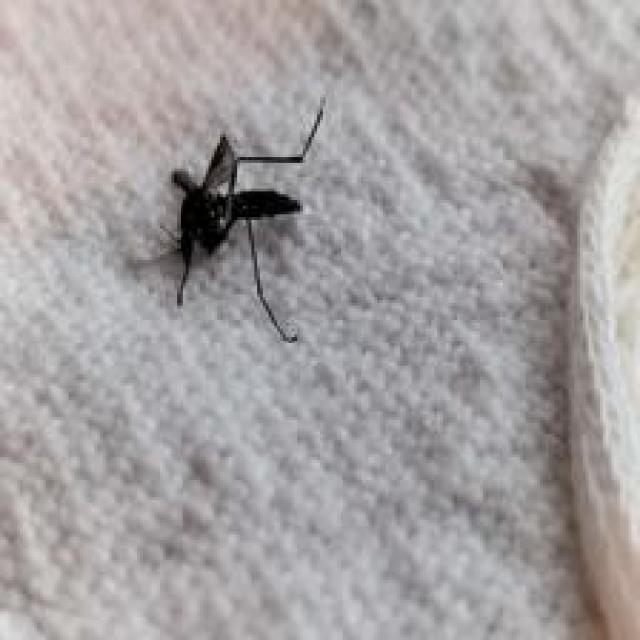Aedes albopictus: (153, 96, 327, 344)
